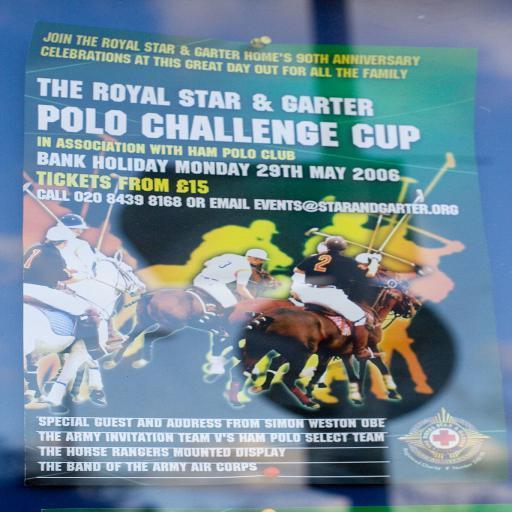horse: (226, 270, 426, 412), (200, 256, 409, 384), (20, 248, 148, 414), (98, 262, 283, 372)
